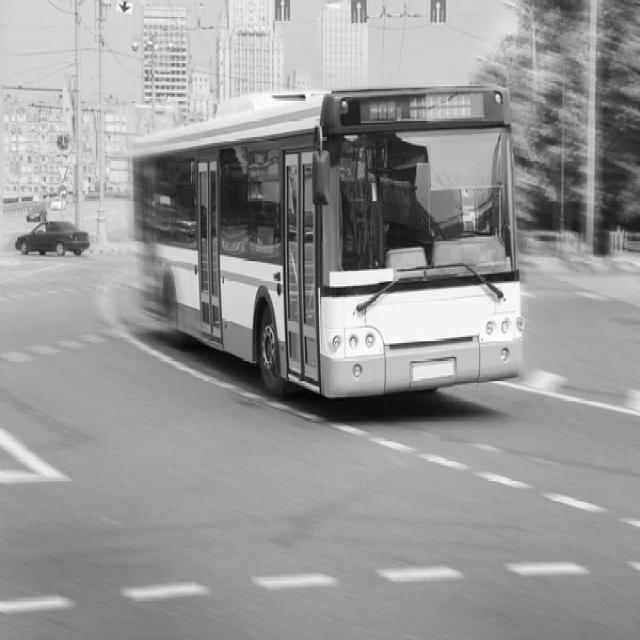Bus: (128, 69, 530, 399)
Car: (12, 214, 92, 258)
